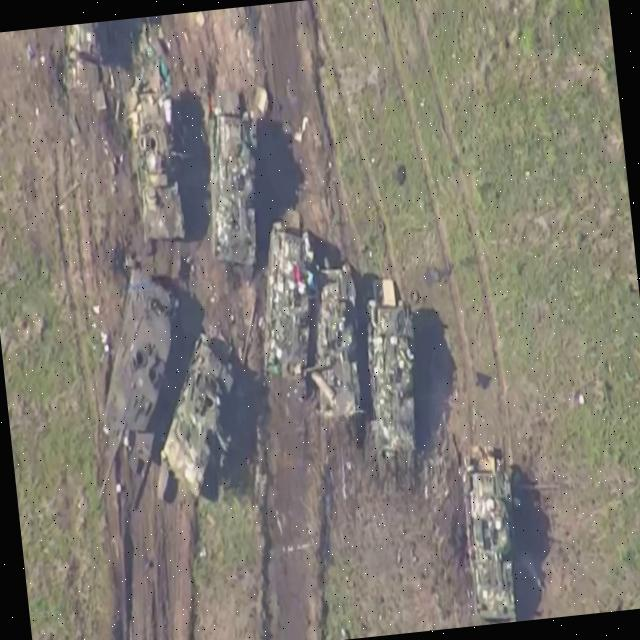AIFV: (149, 332, 247, 507), (251, 224, 328, 395), (459, 450, 526, 627), (362, 297, 428, 459), (131, 91, 198, 242), (308, 266, 370, 420)
MBT: (73, 264, 204, 515)
